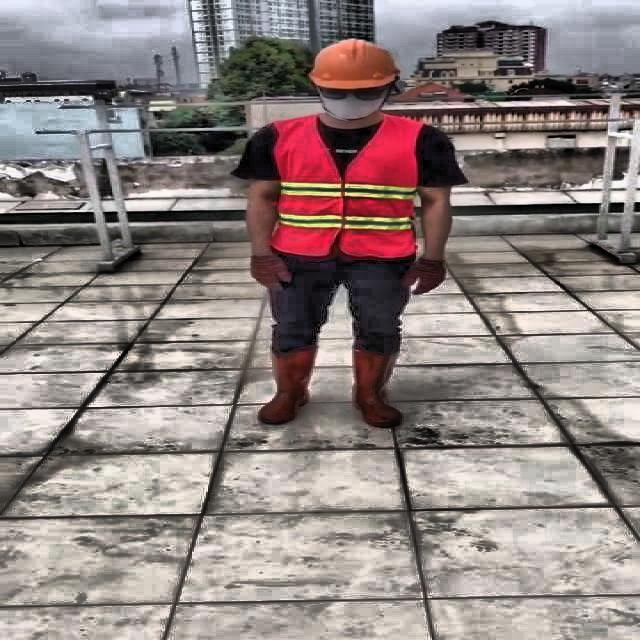safety_helmet: (306, 36, 404, 88)
safety_jacket: (270, 115, 420, 258)
